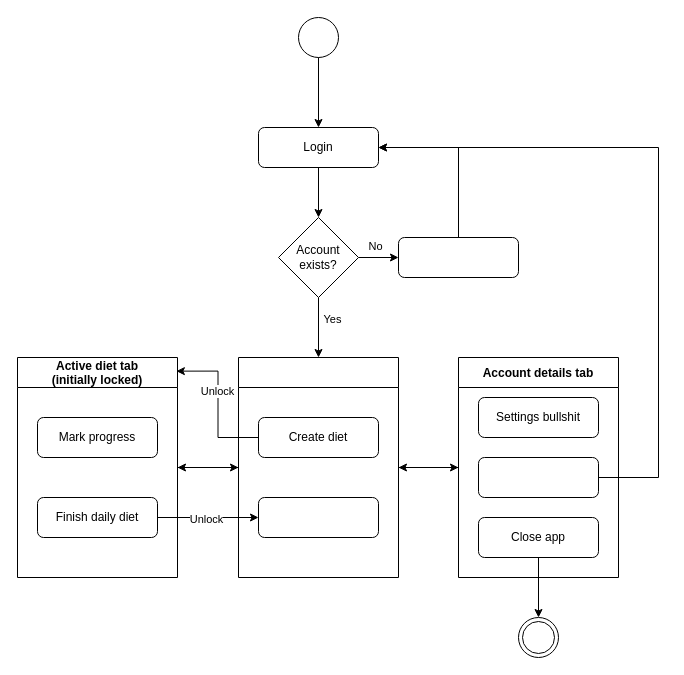
The diagram is 684 pixels wide and 675 high, and some of its shapes have lost their labels. Each missing label, with the box of its shape:
Create account: (398, 236, 518, 278)
Main tab: (238, 356, 398, 578)
Play minigame (initially locked): (258, 496, 378, 538)
Sign out: (478, 456, 598, 498)
